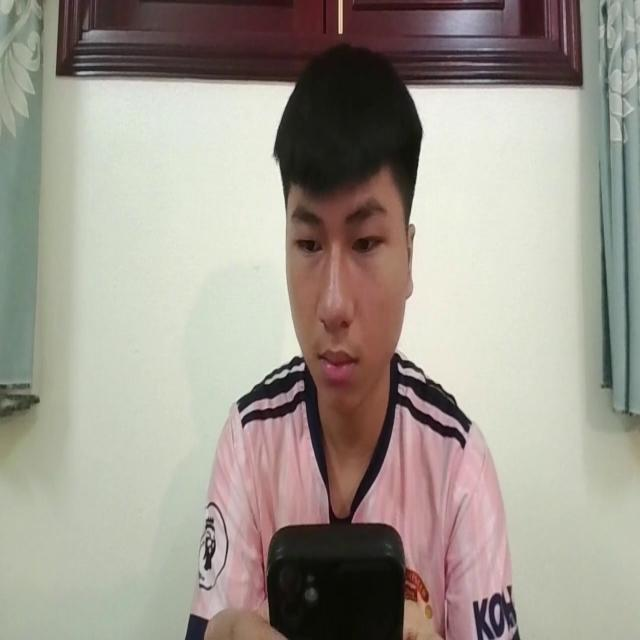phone: (261, 521, 404, 640)
student: (180, 42, 522, 640)
